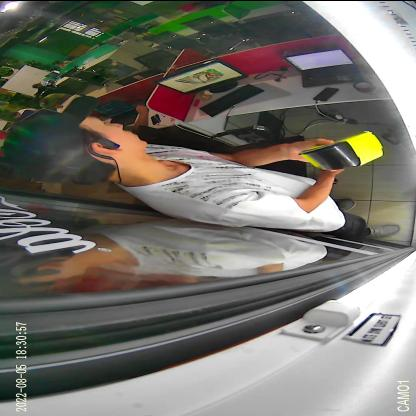yellow: (298, 129, 386, 169)
